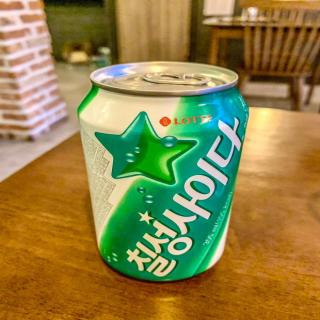cocacola: (78, 60, 252, 284)
